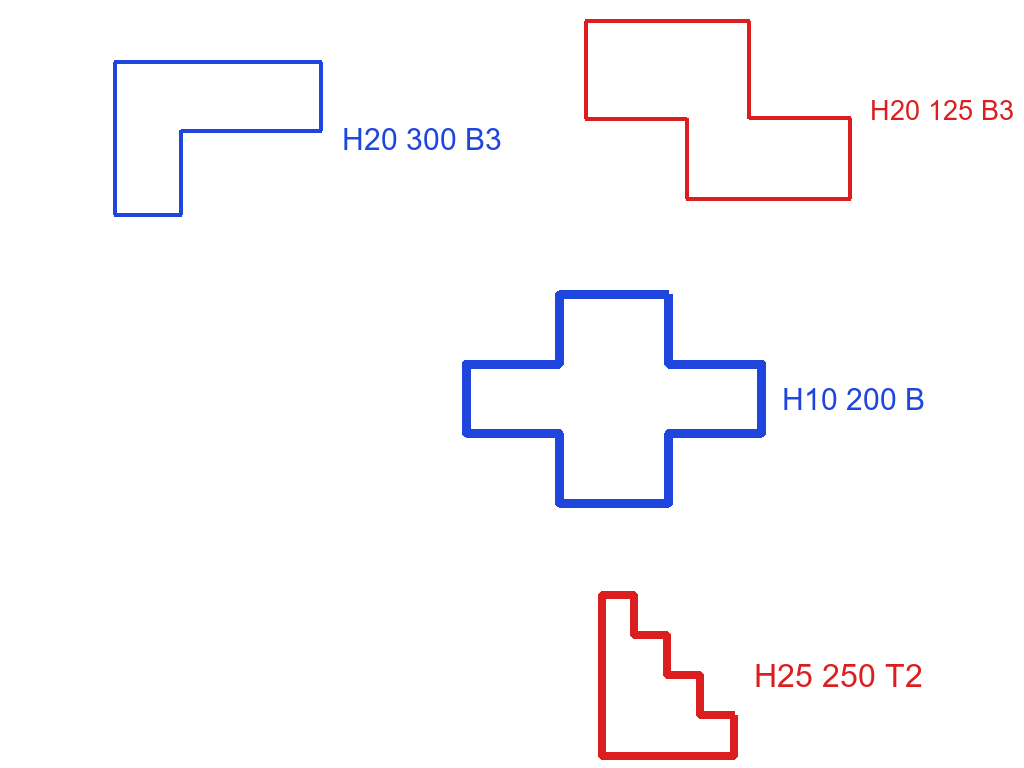shape: (460, 288, 768, 510), (581, 18, 854, 202), (111, 59, 326, 219), (595, 590, 740, 762)
text: (752, 662, 925, 689), (340, 126, 504, 152), (780, 386, 927, 412), (868, 98, 1016, 122)
